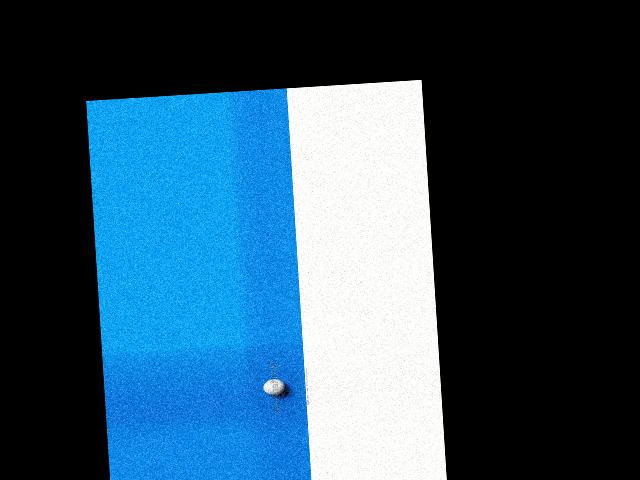egg: (262, 379, 285, 395)
